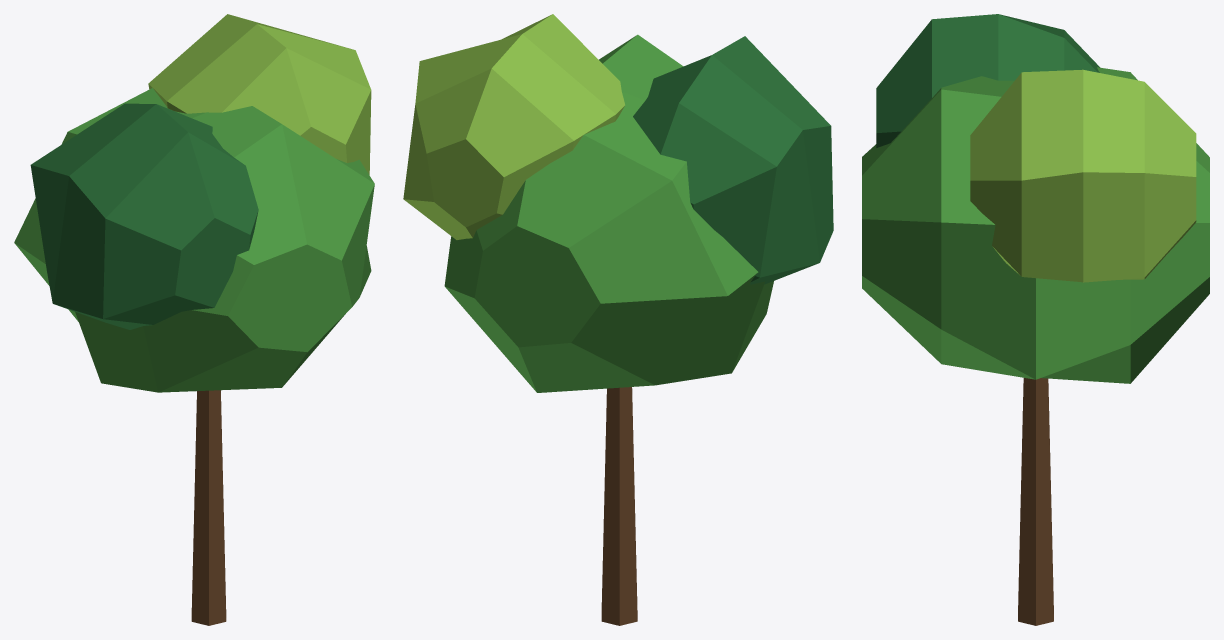
The model's file is nat_tree_round.glb.
The picture shows the model from 3 angles, left to right: view 1: azimuth 30°, elevation 25°; view 2: azimuth 150°, elevation 25°; view 3: azimuth 270°, elevation 25°; orthographic projection. The views are drawn at different scales.
Visible parts, largest first — view 1: nat_tree_round__mesh; view 2: nat_tree_round__mesh; view 3: nat_tree_round__mesh.
Part boxes in pixels (bbox=[...]): nat_tree_round__mesh: bbox=[14, 14, 374, 625]; nat_tree_round__mesh: bbox=[403, 14, 833, 625]; nat_tree_round__mesh: bbox=[862, 14, 1209, 625].
Size of the model in its own units: 4.38 by 6.81 by 3.68.
